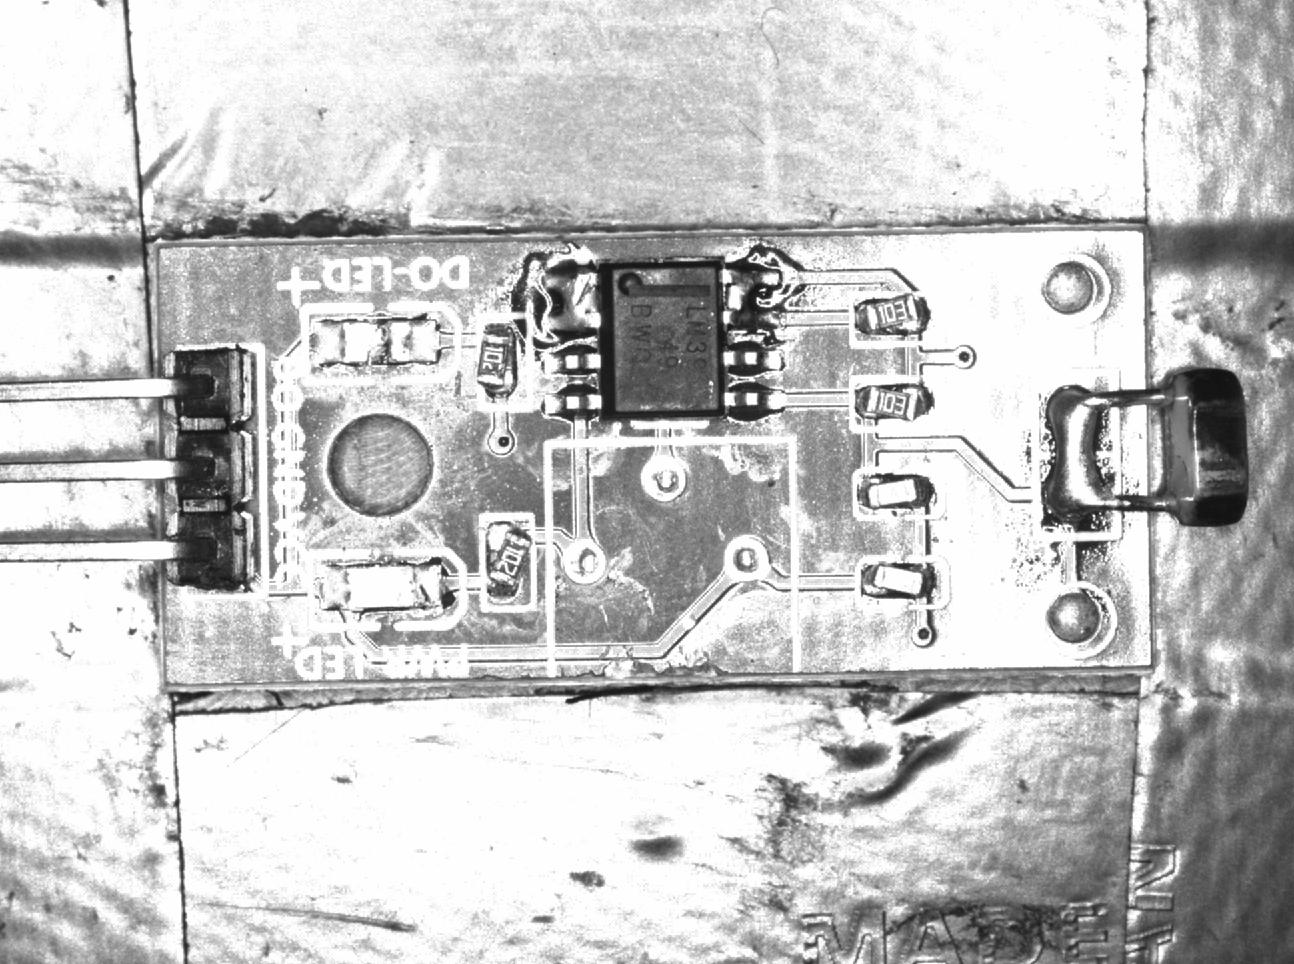lifted: (479, 516, 536, 609), (846, 291, 931, 345), (858, 558, 949, 607), (847, 376, 932, 427), (481, 315, 525, 403)
ok: (1032, 372, 1117, 535), (534, 262, 599, 341), (723, 262, 792, 333), (853, 467, 940, 517)
